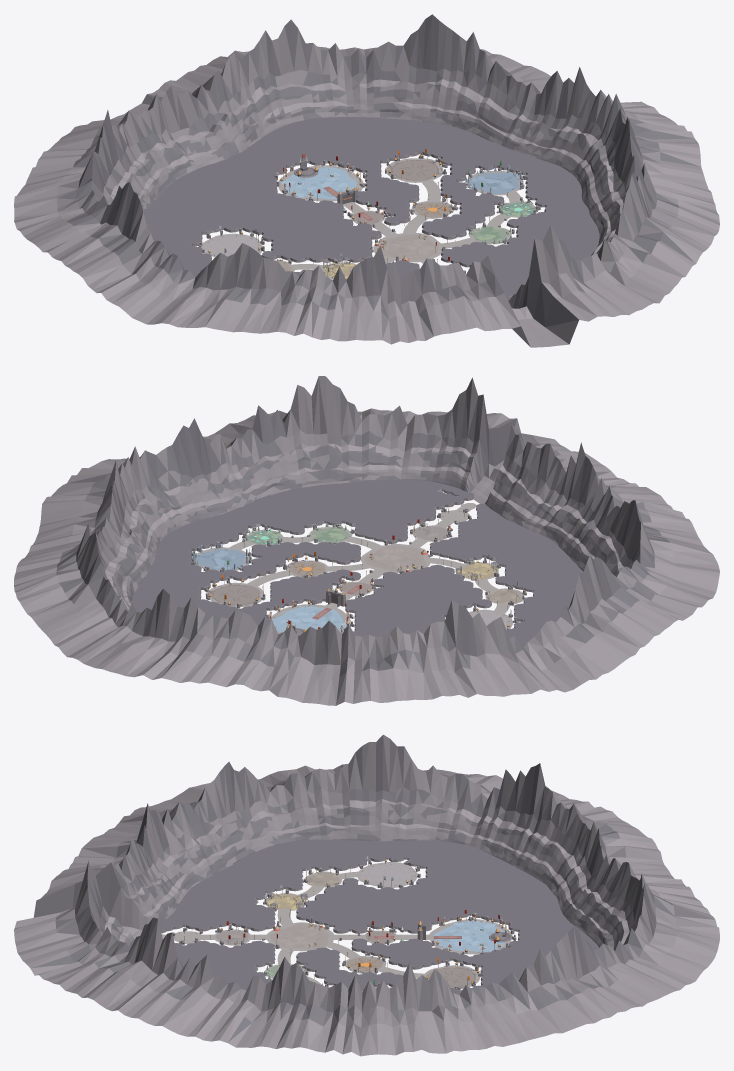
The model's file is map_kharzun_citadel.glb.
3 renders of one model, top to bottom at view 1: azimuth 30°, elevation 25°; view 2: azimuth 150°, elevation 25°; view 3: azimuth 270°, elevation 25°, orthographic. The views are drawn at different scales.
Parts seen in each view (by area): view 1: Z_kharzun_citadel_penhascos, Z_kharzun_citadel_morro_macico_0_0, Z_kharzun_citadel_chao_trono, Z_kharzun_citadel_chao_patio, Z_kharzun_citadel_chao_arena_forja, Z_kharzun_citadel_chao_arena_lobo, Z_kharzun_citadel_chao_arena_pedra; view 2: Z_kharzun_citadel_penhascos, Z_kharzun_citadel_morro_macico_0_0, Z_kharzun_citadel_chao_trono, Z_kharzun_citadel_chao_patio, Z_kharzun_citadel_chao_arena_forja, Z_kharzun_citadel_chao_arena_pedra; view 3: Z_kharzun_citadel_penhascos, Z_kharzun_citadel_morro_macico_0_0, Z_kharzun_citadel_chao_trono, Z_kharzun_citadel_chao_arena_lobo, Z_kharzun_citadel_chao_patio, Z_kharzun_citadel_chao_arena_forja.
Boxes of the visible parts, left/top/right/bottom form: Z_kharzun_citadel_penhascos: left=14, top=14, right=719, bottom=347; Z_kharzun_citadel_morro_macico_0_0: left=144, top=117, right=599, bottom=300; Z_kharzun_citadel_chao_trono: left=283, top=167, right=357, bottom=199; Z_kharzun_citadel_chao_patio: left=378, top=234, right=437, bottom=260; Z_kharzun_citadel_chao_arena_forja: left=387, top=160, right=438, bottom=181; Z_kharzun_citadel_chao_arena_lobo: left=203, top=235, right=257, bottom=256; Z_kharzun_citadel_chao_arena_pedra: left=468, top=172, right=518, bottom=193; Z_kharzun_citadel_penhascos: left=14, top=376, right=719, bottom=705; Z_kharzun_citadel_morro_macico_0_0: left=133, top=479, right=583, bottom=645; Z_kharzun_citadel_chao_trono: left=272, top=606, right=345, bottom=632; Z_kharzun_citadel_chao_patio: left=364, top=545, right=426, bottom=570; Z_kharzun_citadel_chao_arena_forja: left=208, top=584, right=259, bottom=605; Z_kharzun_citadel_chao_arena_pedra: left=195, top=549, right=245, bottom=569; Z_kharzun_citadel_penhascos: left=14, top=734, right=719, bottom=1056; Z_kharzun_citadel_morro_macico_0_0: left=159, top=839, right=598, bottom=994; Z_kharzun_citadel_chao_trono: left=433, top=920, right=504, bottom=952; Z_kharzun_citadel_chao_arena_lobo: left=361, top=863, right=413, bottom=886; Z_kharzun_citadel_chao_patio: left=269, top=923, right=329, bottom=949; Z_kharzun_citadel_chao_arena_forja: left=427, top=967, right=476, bottom=988.
Bounding box in the file's own units: 360 × 54.5 × 373.
